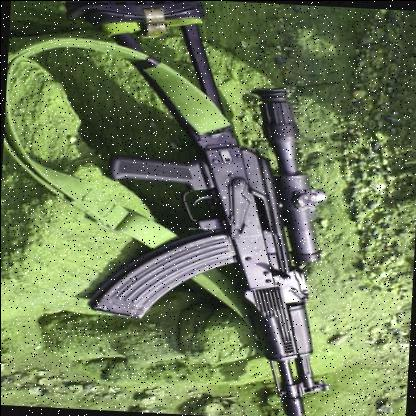rifle: (80, 0, 351, 416)
